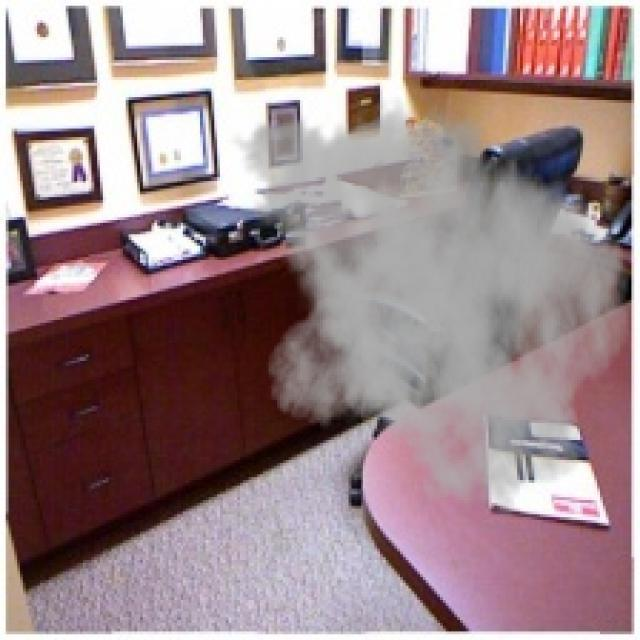Smoke: (226, 94, 632, 520)
